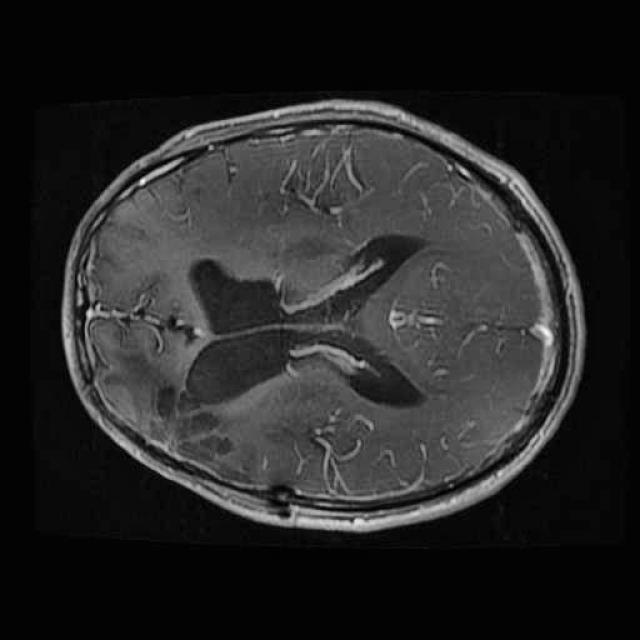Non-Tumor: (128, 360, 251, 480)
